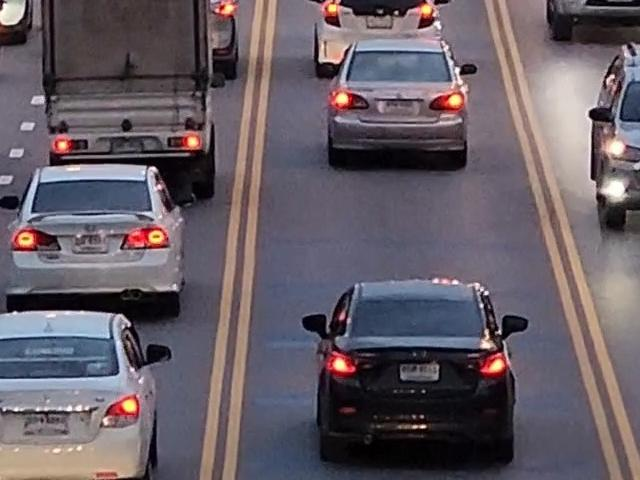car: (303, 275, 540, 480), (0, 311, 177, 480), (0, 165, 203, 305), (327, 35, 483, 168), (306, 0, 441, 51)
pickup-truck: (586, 48, 640, 238)
truck: (36, 0, 223, 198)
